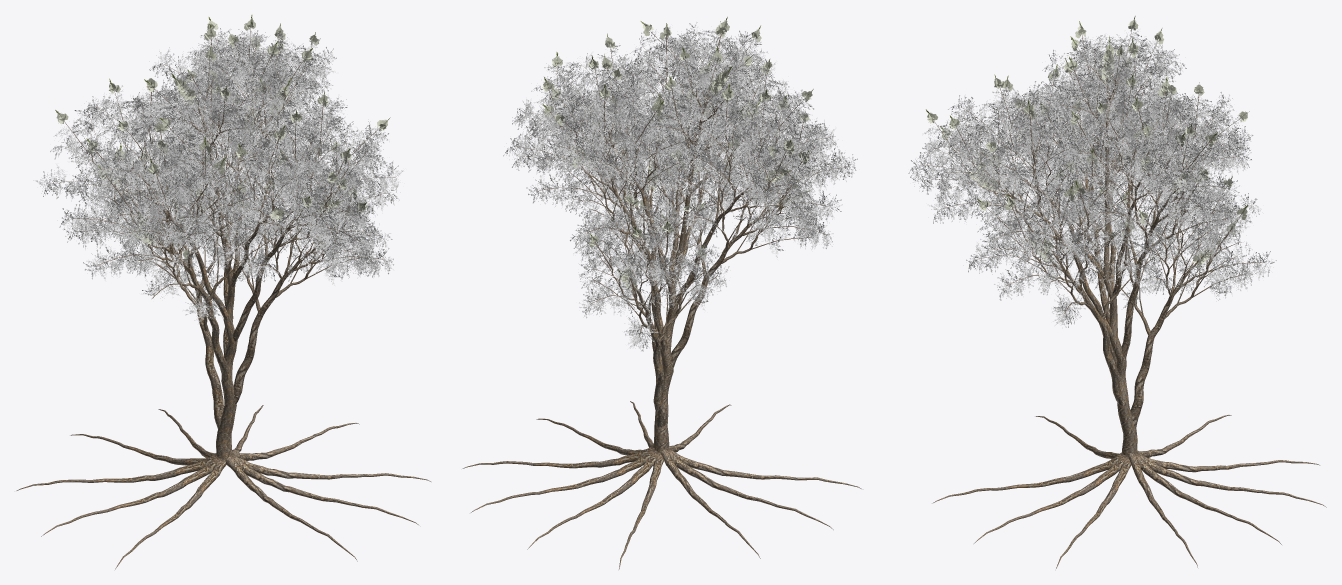
The model's file is MESH_OC56_MelaleucaAlternifolia_M_LOD0.fbx.
3 views of the same model, side by side, from view 1: azimuth 30°, elevation 25°; view 2: azimuth 150°, elevation 25°; view 3: azimuth 270°, elevation 25° (orthographic). The views are drawn at different scales.
Visible parts, largest first — view 1: MI_LOD0_001, MI_LOD0, MI_LOD0_003; view 2: MI_LOD0_001, MI_LOD0, MI_LOD0_003; view 3: MI_LOD0_001, MI_LOD0, MI_LOD0_003.
Part boxes in pixels (<box>): MI_LOD0_001: <box>33,28,403,323</box>; MI_LOD0: <box>16,27,430,569</box>; MI_LOD0_003: <box>56,19,387,261</box>; MI_LOD0_001: <box>503,22,857,351</box>; MI_LOD0: <box>462,30,861,569</box>; MI_LOD0_003: <box>543,20,812,290</box>; MI_LOD0_001: <box>908,29,1276,327</box>; MI_LOD0: <box>920,29,1326,568</box>; MI_LOD0_003: <box>927,19,1247,268</box>.
Size of the model in its own units: 520 by 643 by 570.
